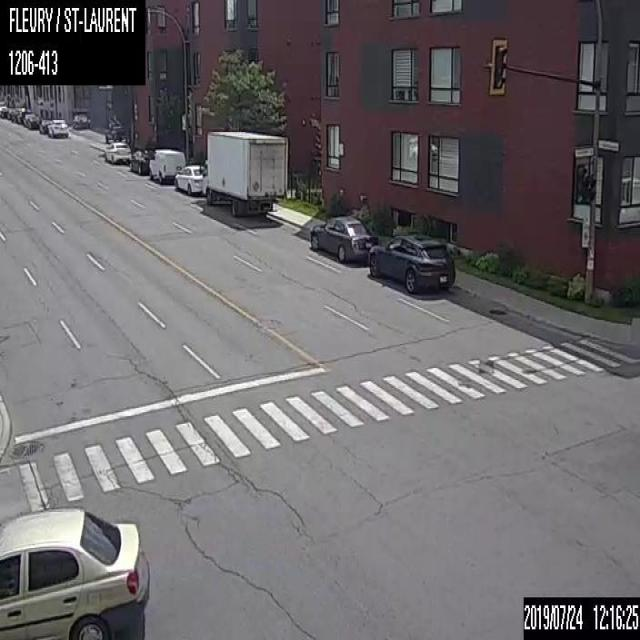vehicle: (0, 505, 148, 639), (202, 129, 287, 216), (367, 233, 455, 295), (309, 215, 378, 263), (148, 147, 185, 183), (175, 164, 202, 195), (129, 148, 153, 174), (104, 141, 130, 164), (104, 122, 130, 142), (48, 119, 68, 137), (72, 114, 90, 128), (38, 118, 51, 133), (26, 115, 40, 128), (22, 113, 34, 125)
